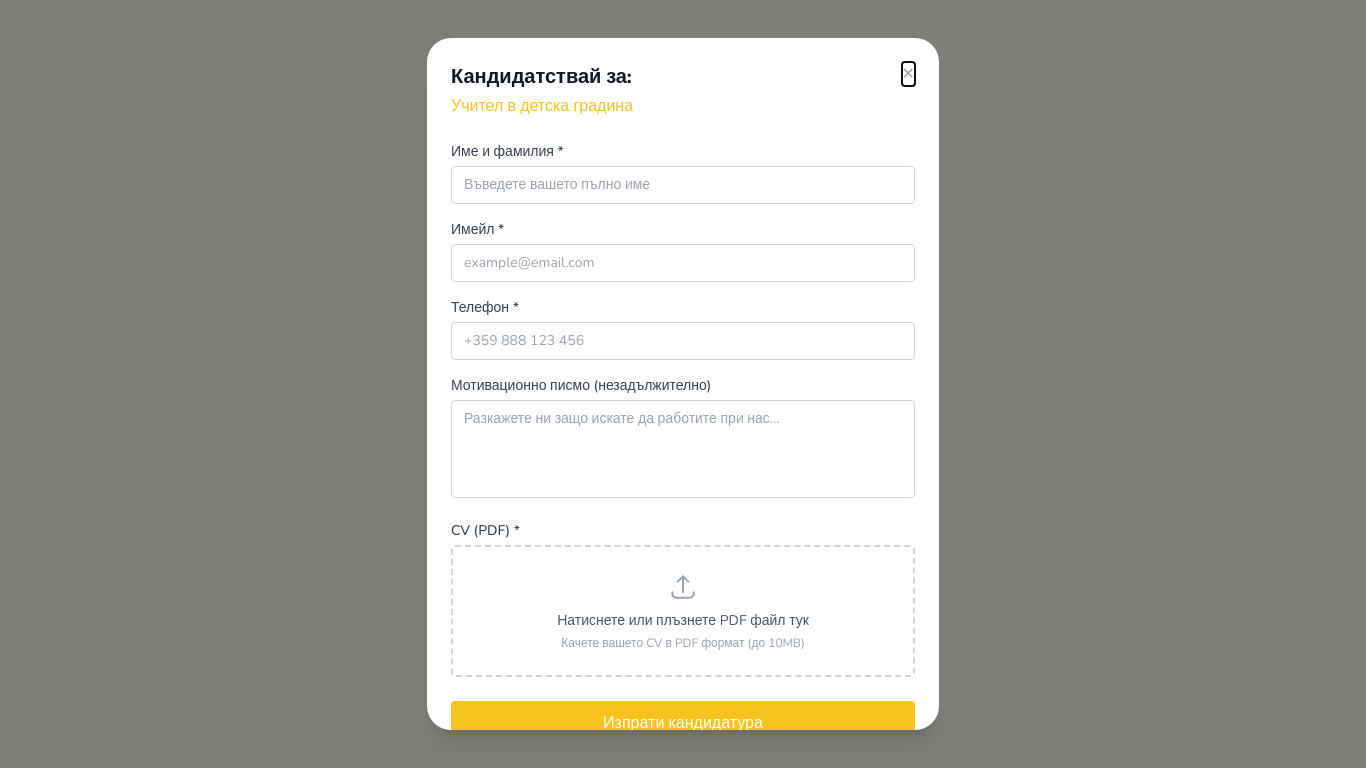
Test: JobApplicationModal › shows CV required error when no file selected
The image size is (1366, 768).
Type "Test User" into the field labelled "Име и фамилия *" at (683, 185), box [451,166,915,204]
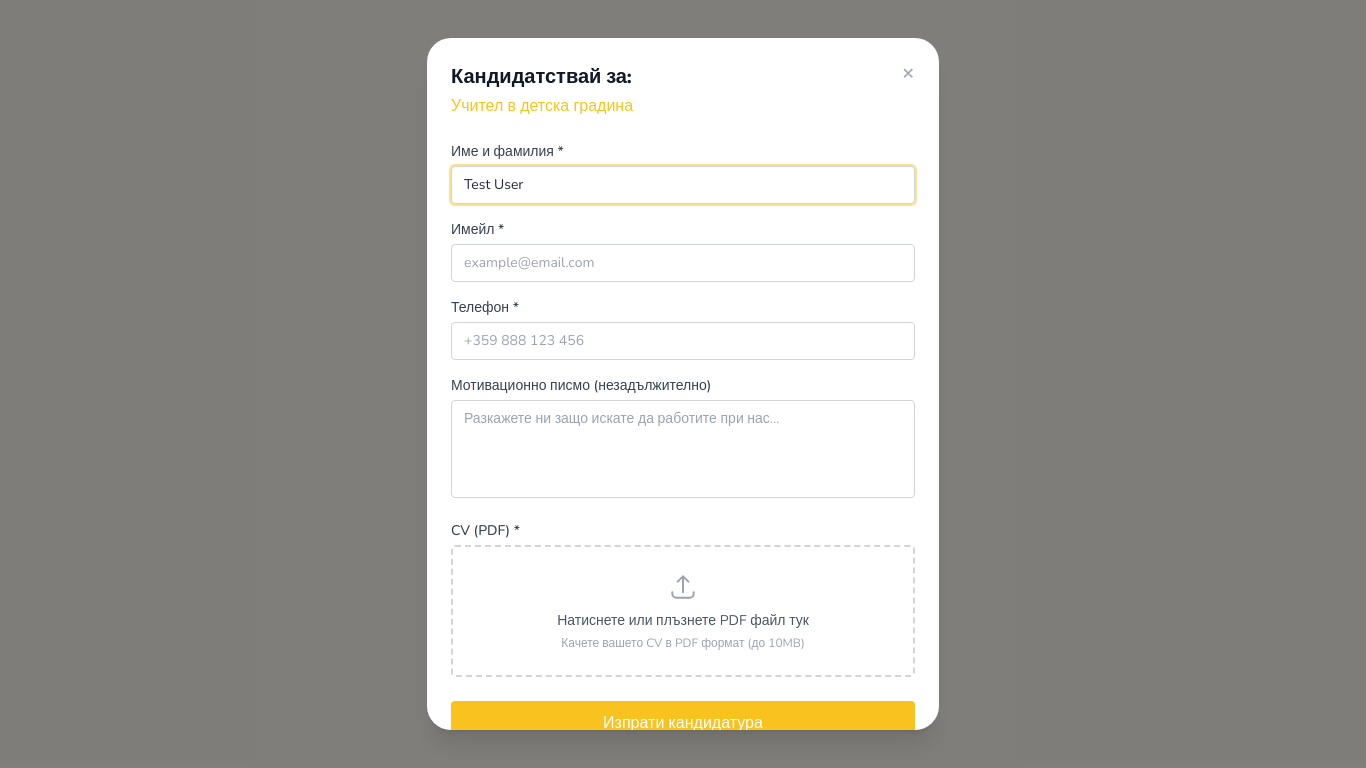
Type "test@example.com" into the field labelled "Имейл *" at (683, 263), box [451,244,915,282]
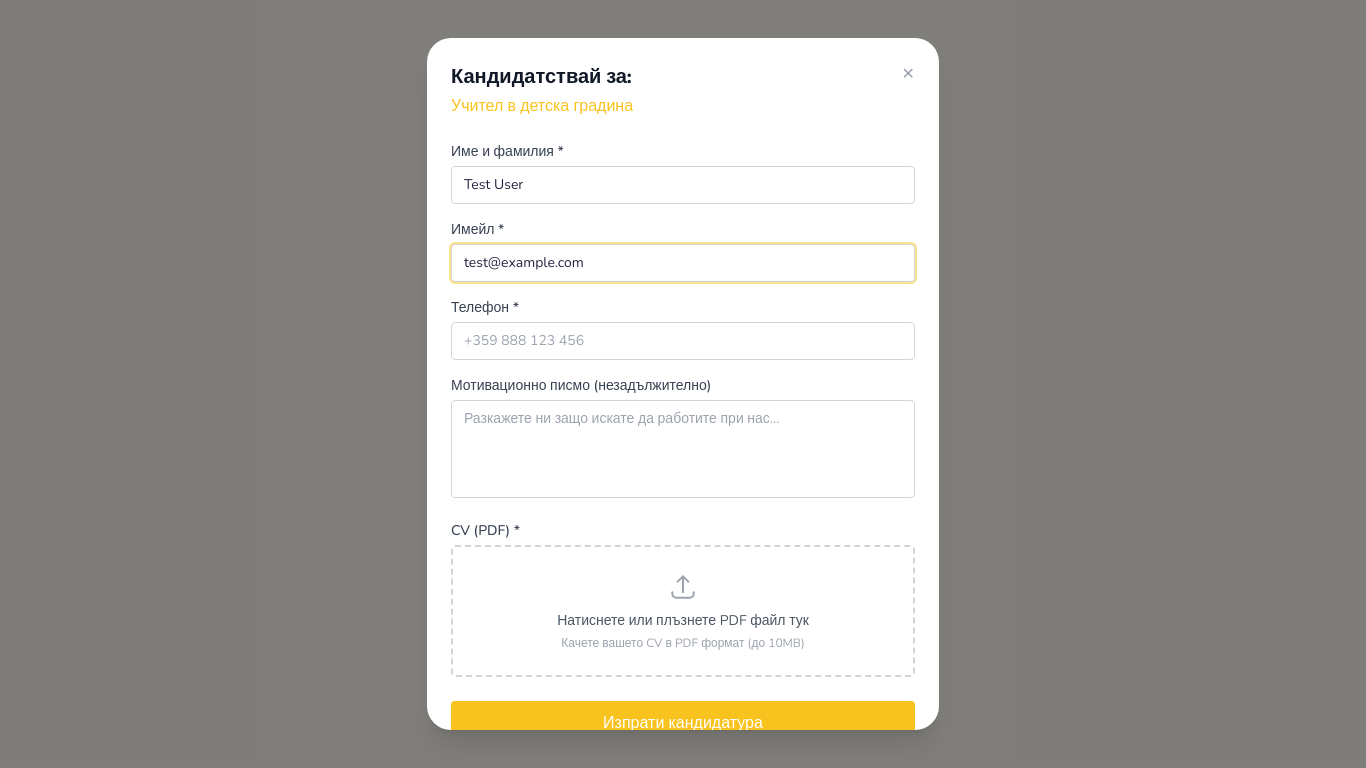
Type "0888123456" into the field labelled "Телефон *" at (683, 341), box [451,322,915,360]
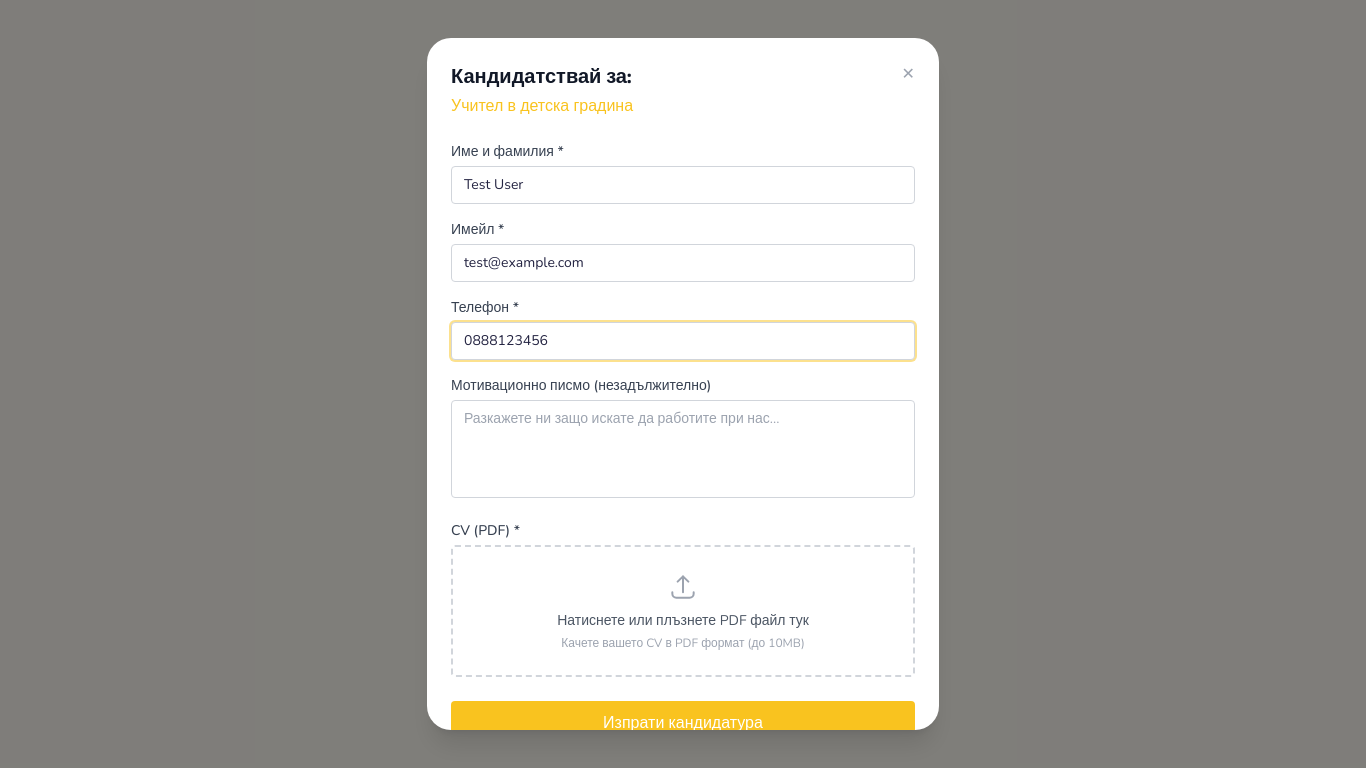
Click the button "Изпрати кандидатура" at (683, 723), box [451,701,915,745]
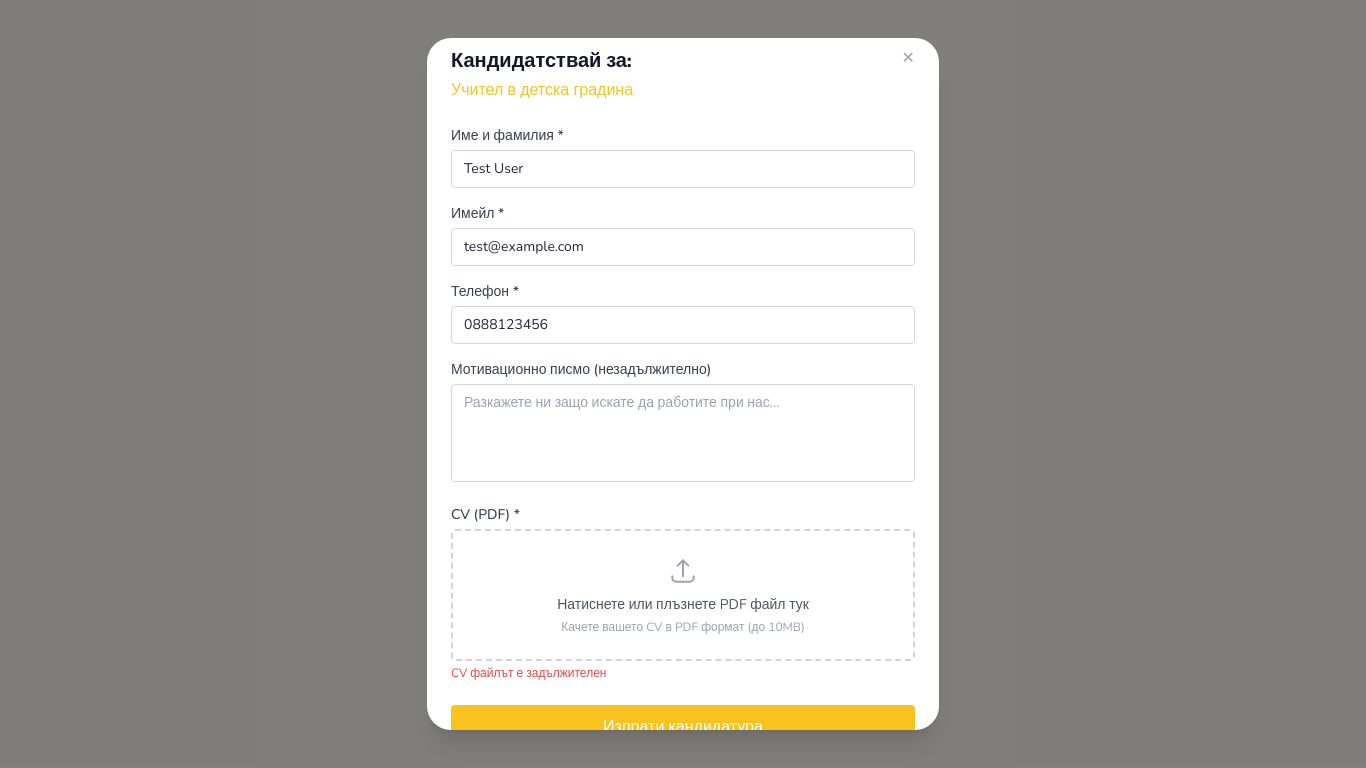
Now the text "CV файлът е задължителен" is shown, box [451,665,606,681]
